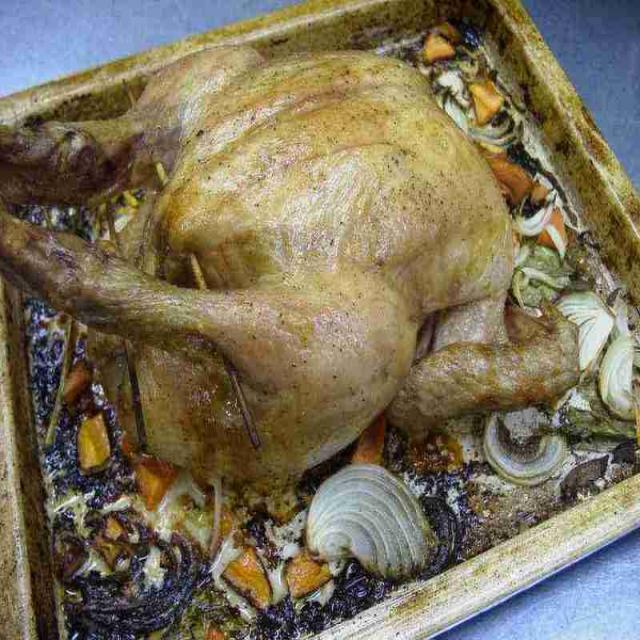Chicken roast: (24, 56, 595, 455)
